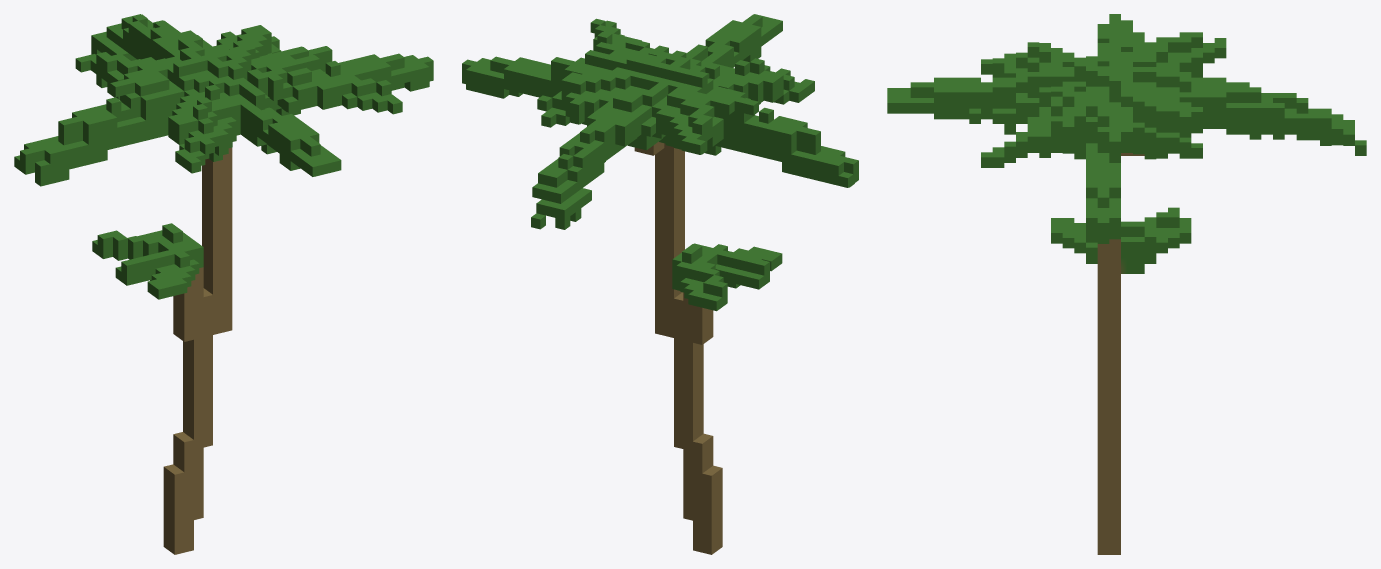
Rendered from Palimer.fbx.
The picture shows the model from 3 angles, left to right: view 1: azimuth 30°, elevation 25°; view 2: azimuth 150°, elevation 25°; view 3: azimuth 270°, elevation 25°; orthographic projection. The views are drawn at different scales.
Parts seen in each view (by area): view 1: Matrix; view 2: Matrix; view 3: Matrix.
Boxes of the visible parts, left/top/right/bottom form: Matrix: left=14, top=14, right=433, bottom=554; Matrix: left=462, top=14, right=858, bottom=554; Matrix: left=887, top=14, right=1366, bottom=554.
Bounding box in the file's own units: 42 × 48 × 41.
